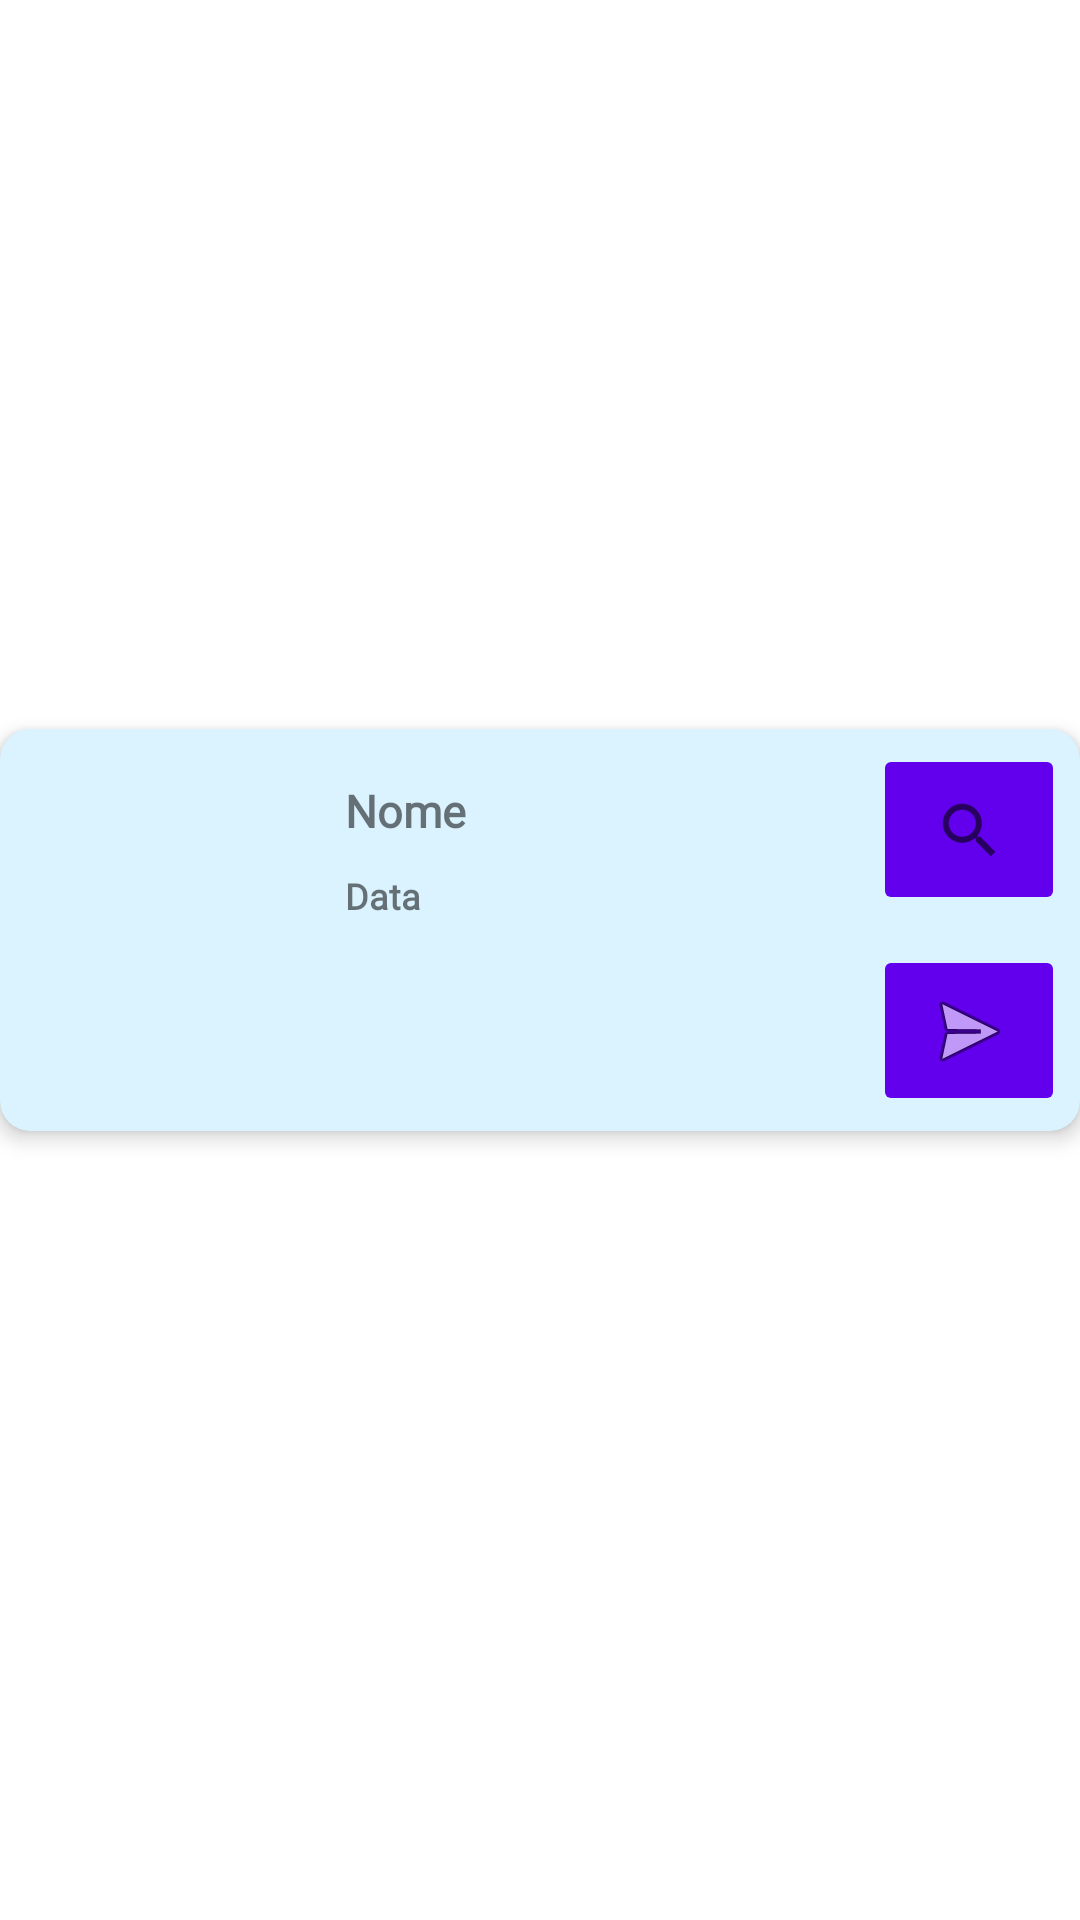

Icons on this 1080px×1920px Android screen, each with its box as rect(x1, y1, x2, y2):
send: rect(885, 963, 1053, 1098)
